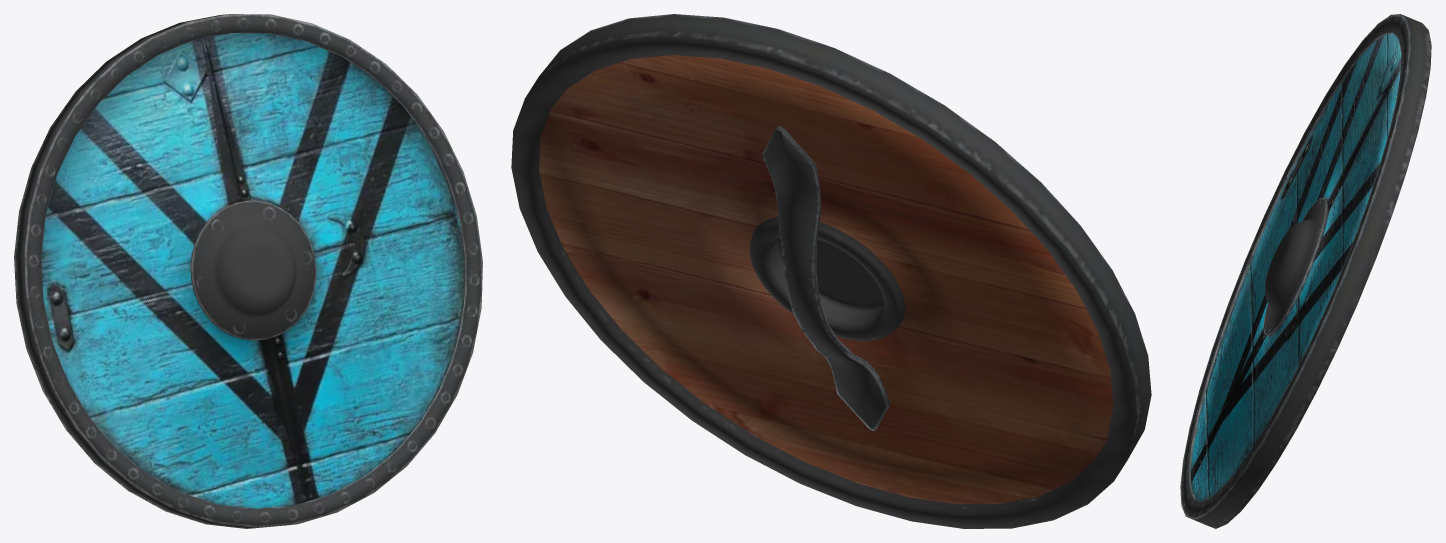
File: viking_maiden_shield.glb
3 views of the same model, side by side, from view 1: azimuth 30°, elevation 25°; view 2: azimuth 150°, elevation 25°; view 3: azimuth 270°, elevation 25° (orthographic). The views are drawn at different scales.
Visible parts, largest first — view 1: Object_2; view 2: Object_2; view 3: Object_2.
Part boxes in pixels (left/top/right/bottom): Object_2: left=14, top=14, right=482, bottom=528; Object_2: left=511, top=14, right=1151, bottom=528; Object_2: left=1180, top=14, right=1431, bottom=528.
Bounding box in the file's own units: 1.88 × 1.75 × 0.8662.
1 material, 1 textured.
